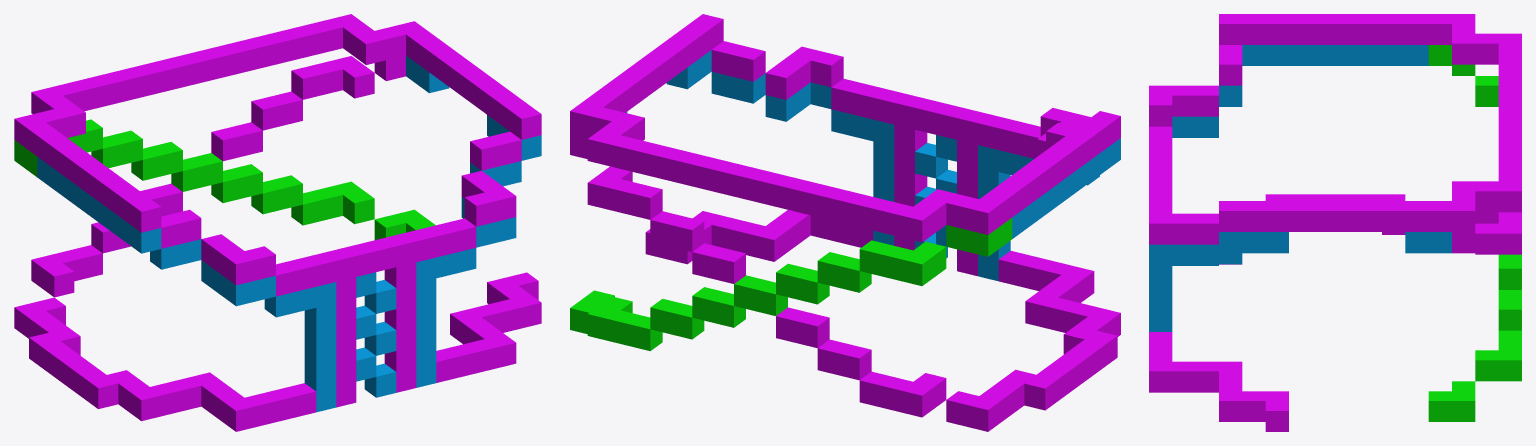
3 renders of one model, left to right at view 1: azimuth 30°, elevation 25°; view 2: azimuth 150°, elevation 25°; view 3: azimuth 270°, elevation 25°, orthographic. The views are drawn at different scales.
Parts seen in each view (by area): view 1: 50.1; view 2: 50.1; view 3: 50.1.
Boxes of the visible parts, x1,y1,x2,y2 form: 50.1: (14,14,541,431); 50.1: (570,14,1120,431); 50.1: (1149,14,1521,431).
Bounding box in the file's own units: 220 × 100 × 160.
1 material, 1 textured.
